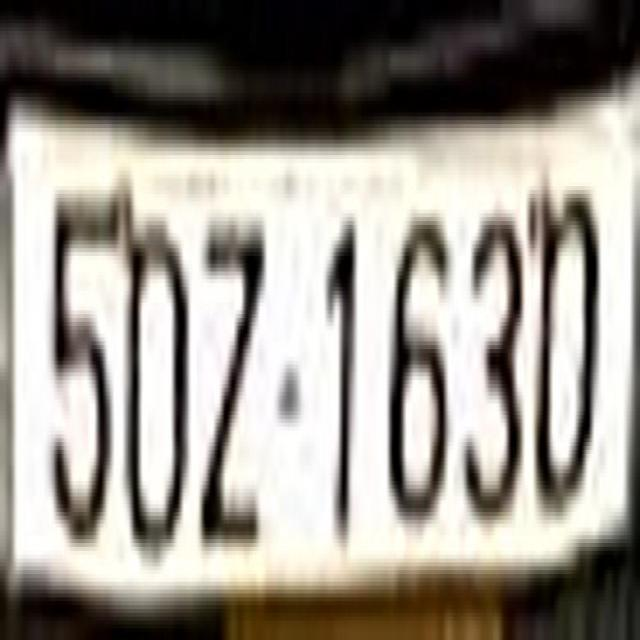0: (125, 213, 188, 551), (538, 194, 596, 520)
1: (325, 236, 353, 554)
3: (462, 198, 522, 512)
5: (48, 182, 116, 543)
6: (394, 210, 451, 554)
Z: (200, 213, 272, 551)
